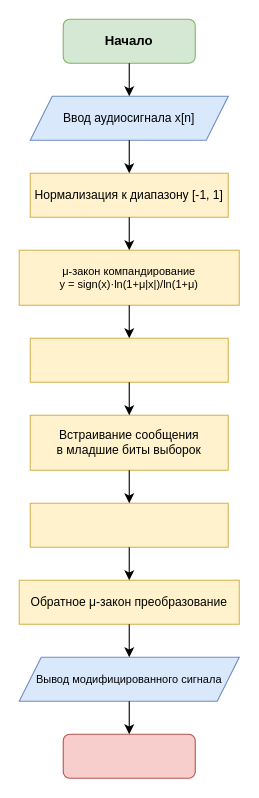
Image size: 259x798. Some labels were removed from this diagram. Each missing label, with the centre of its shape:
"Квантование до 8 бит" goes at (x=128, y=359).
"Конец" goes at (x=128, y=755).
"Обратное квантование" goes at (x=128, y=524).
